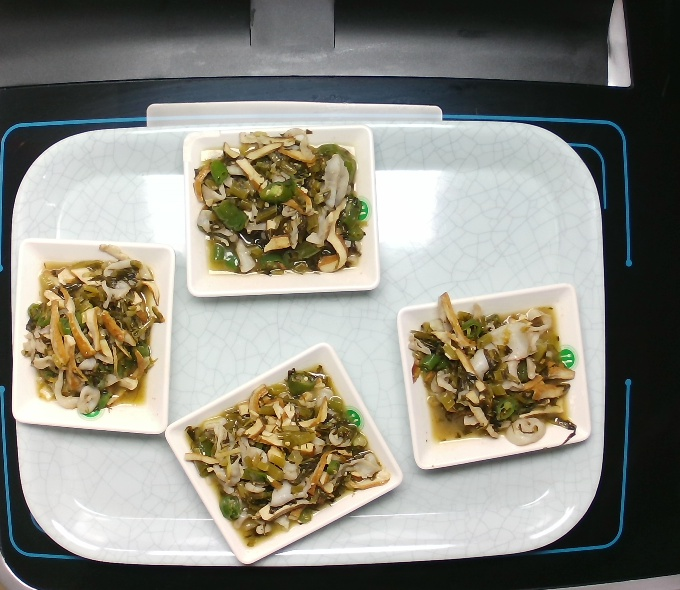wcq-YouYuXueCaiDouGan: (181, 360, 393, 547), (404, 291, 584, 448), (191, 128, 373, 279), (24, 252, 164, 415)
